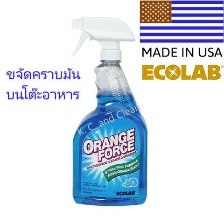cleaning_solution: (64, 12, 150, 207)
